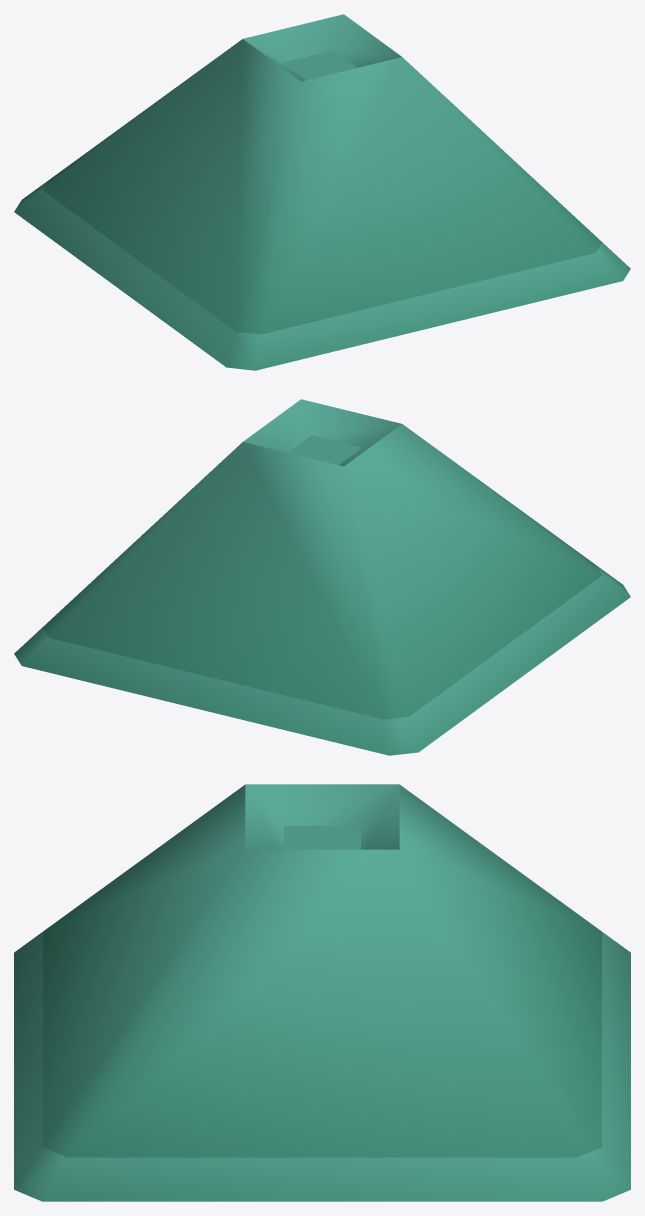
The model's file is town-roof-point.glb.
3 renders of one model, top to bottom at view 1: azimuth 30°, elevation 25°; view 2: azimuth 150°, elevation 25°; view 3: azimuth 270°, elevation 25°, orthographic. The views are drawn at different scales.
Visible parts, largest first — view 1: town-roof-point; view 2: town-roof-point; view 3: town-roof-point.
Boxes of the visible parts, x1,y1,x2,y2 form: town-roof-point: (14,14,630,370); town-roof-point: (14,399,630,755); town-roof-point: (14,784,630,1201).
Bounding box in the file's own units: 1.1 × 0.5 × 1.1.
